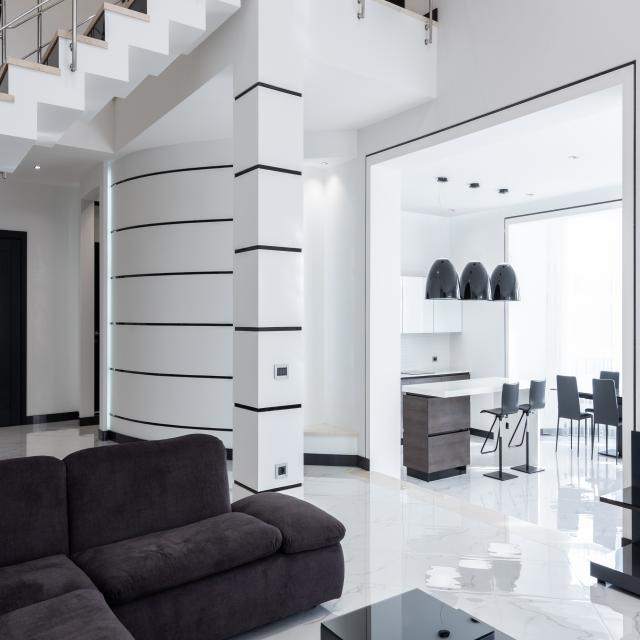floor: (234, 424, 640, 640), (0, 419, 123, 461), (227, 460, 233, 504), (482, 438, 494, 453)
wall: (324, 0, 640, 489), (258, 0, 438, 500), (115, 0, 258, 503), (109, 139, 234, 492), (0, 173, 80, 416), (449, 186, 623, 281), (369, 166, 401, 481), (78, 162, 103, 431), (303, 165, 324, 433), (449, 301, 509, 379), (400, 211, 450, 278), (57, 97, 116, 153), (80, 199, 94, 418), (304, 131, 357, 160)
